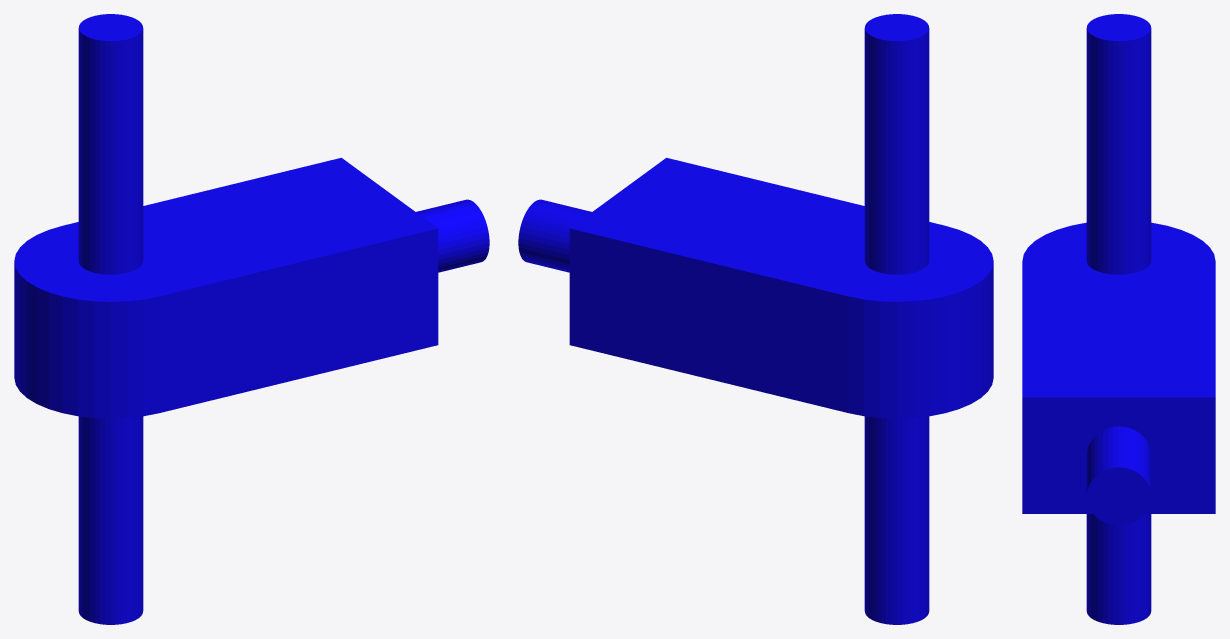
Rendered from Wrist5.dae.
3 views of the same model, side by side, from view 1: azimuth 30°, elevation 25°; view 2: azimuth 150°, elevation 25°; view 3: azimuth 270°, elevation 25° (orthographic).
Visible parts, largest first — view 1: M5; view 2: M5; view 3: M5.
Part boxes in pixels (<box>): M5: <box>14,14,489,624</box>; M5: <box>518,14,993,624</box>; M5: <box>1022,14,1215,624</box>.
Size of the model in its own units: 0.08 by 0.03 by 0.1.
